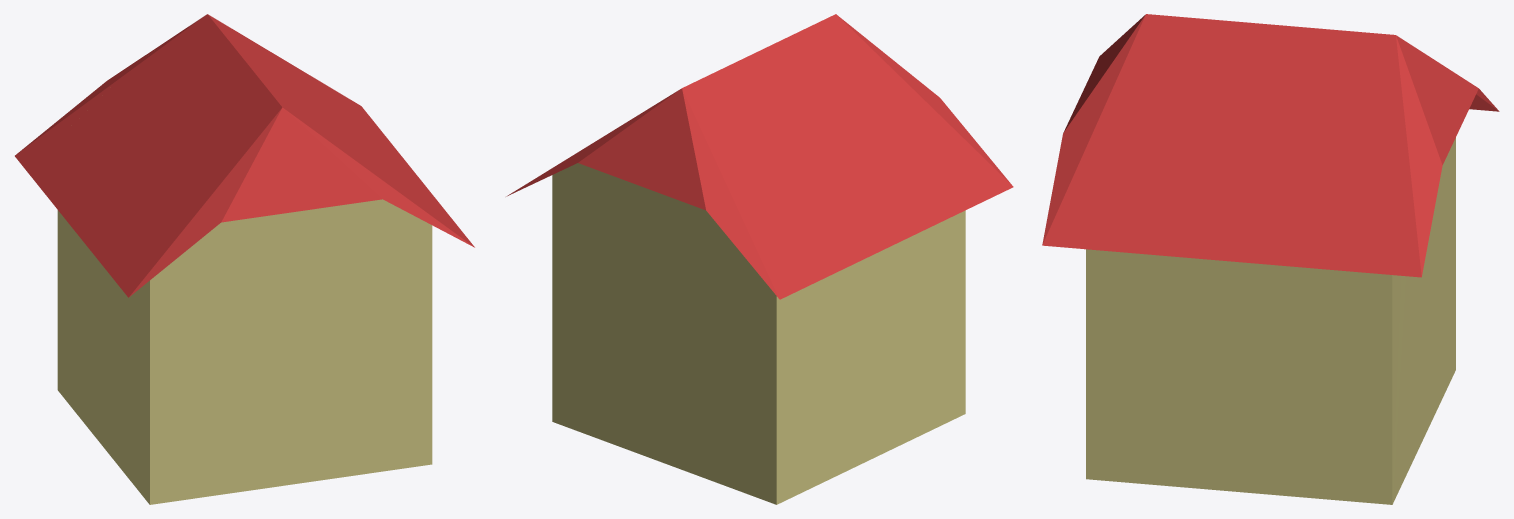
The picture shows the model from 3 angles, left to right: view 1: azimuth 30°, elevation 25°; view 2: azimuth 150°, elevation 25°; view 3: azimuth 270°, elevation 25°; orthographic projection. The views are drawn at different scales.
Parts seen in each view (by area): view 1: group_5, group_3, group_4; view 2: group_5, group_3, group_4; view 3: group_5, group_3, group_4.
Boxes of the visible parts, x1=… form: group_5: x1=57, y1=199, x2=432, y2=504; group_3: x1=15, y1=14, x2=474, y2=297; group_4: x1=15, y1=44, x2=474, y2=292; group_5: x1=552, y1=163, x2=965, y2=504; group_3: x1=506, y1=14, x2=1013, y2=299; group_4: x1=578, y1=90, x2=1008, y2=299; group_5: x1=1086, y1=138, x2=1455, y2=504; group_3: x1=1042, y1=14, x2=1499, y2=277; group_4: x1=1042, y1=57, x2=1497, y2=276.
Size of the model in its own units: 12.55 by 12.28 by 11.85.
